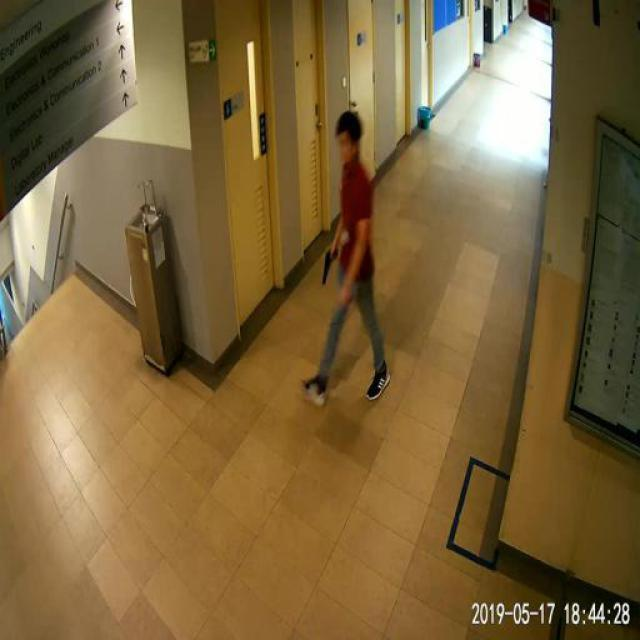weapon: (320, 247, 340, 285)
